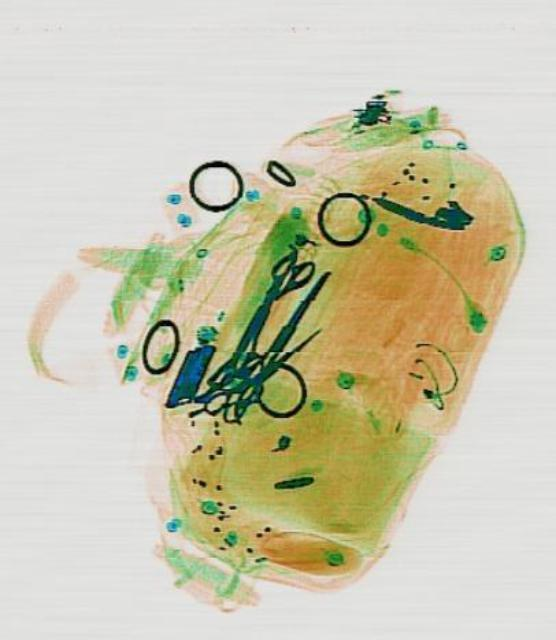Scissors: (210, 254, 362, 452), (232, 242, 316, 351)
